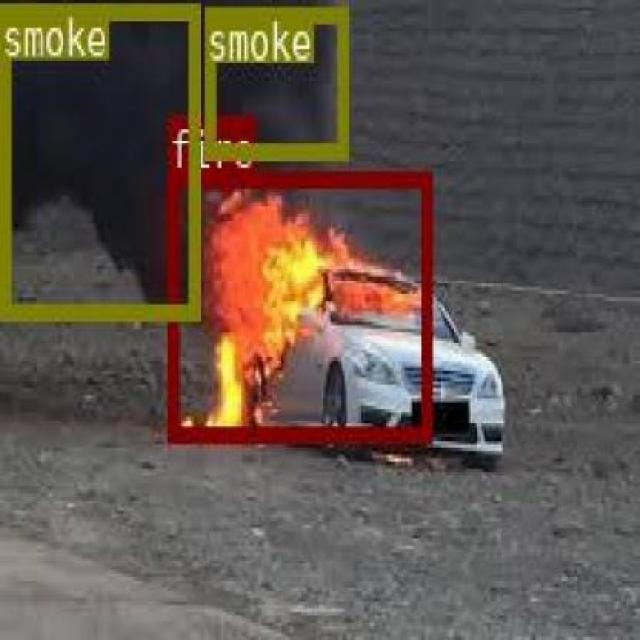fire: (166, 168, 428, 440)
smoke: (0, 1, 195, 316), (204, 7, 344, 156)
